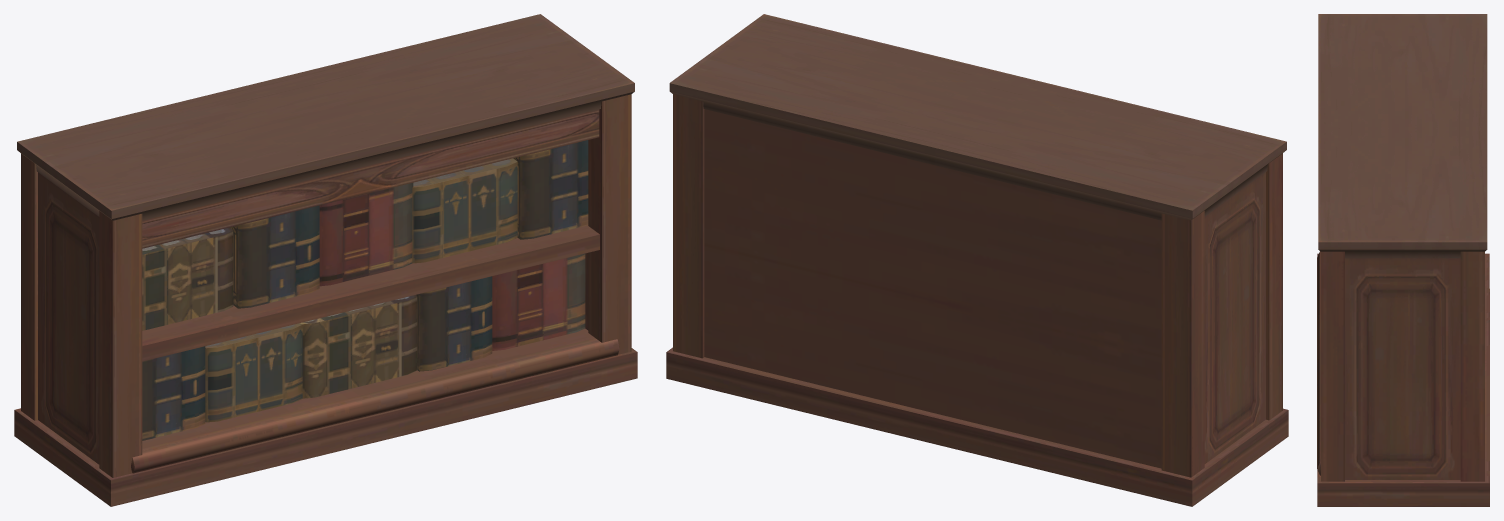
Rendered from Homeworld_Interior_Md_Cabinet_Bookcase_01_Vo.fbx.
The picture shows the model from 3 angles, left to right: view 1: azimuth 30°, elevation 25°; view 2: azimuth 150°, elevation 25°; view 3: azimuth 270°, elevation 25°; orthographic projection. The views are drawn at different scales.
Visible parts, largest first — view 1: Indoor_MdProps_Library_Shelf08_Vo, Indoor_MdProps_Library_Shelf08_BookGroup01_Vo (16); view 2: Indoor_MdProps_Library_Shelf08_Vo; view 3: Indoor_MdProps_Library_Shelf08_Vo.
Boxes of the visible parts, box(x1,y1,x2,y2) form: Indoor_MdProps_Library_Shelf08_Vo: box(14, 14, 637, 506); Indoor_MdProps_Library_Shelf08_BookGroup01_Vo (16): box(142, 140, 588, 440); Indoor_MdProps_Library_Shelf08_Vo: box(666, 14, 1288, 506); Indoor_MdProps_Library_Shelf08_Vo: box(1317, 14, 1489, 506).
Size of the model in its own units: 2.13 by 1.14 by 0.6778.
